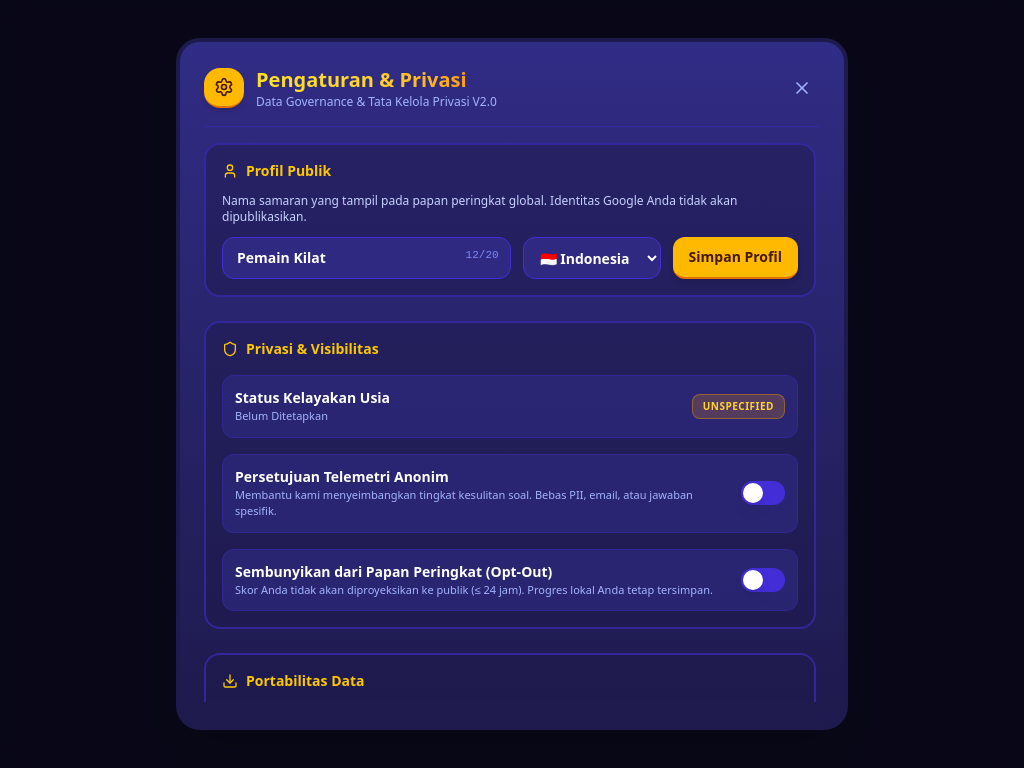
SettingsModal component › displays error message when pseudonym validation fails
Replace the text in the field with placeholder "Ketik nama samaran..." with "bad": (366,258) 222,237 -> 511,279
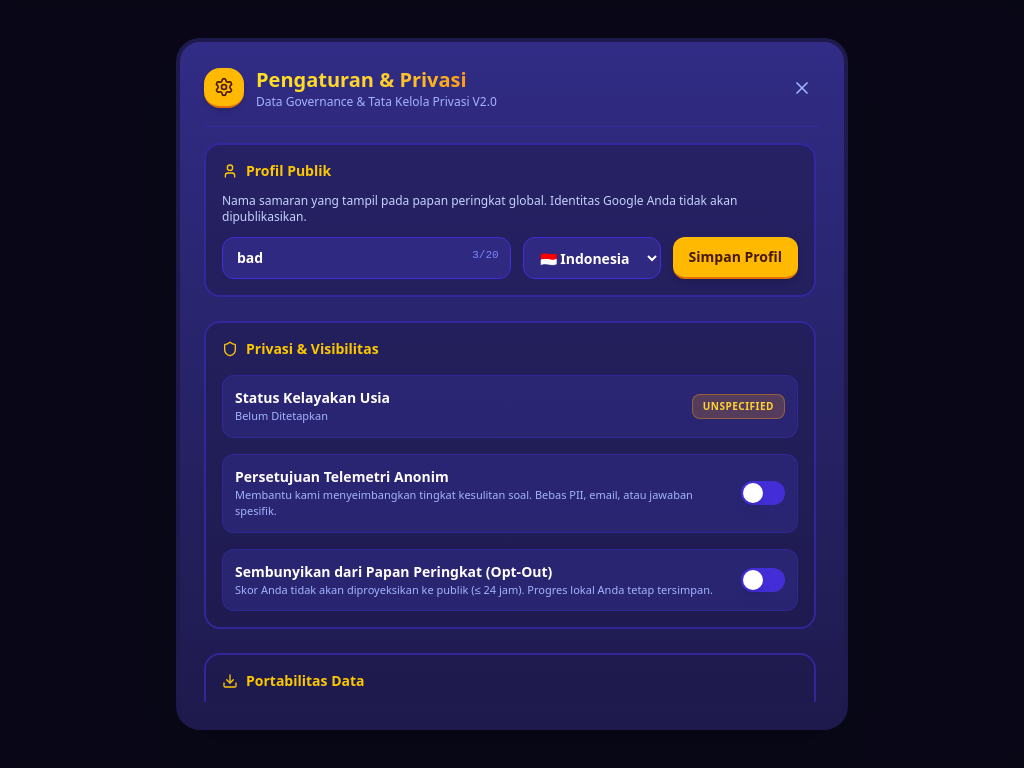
Click the button "Simpan Profil": (735,258) 673,237 -> 798,279
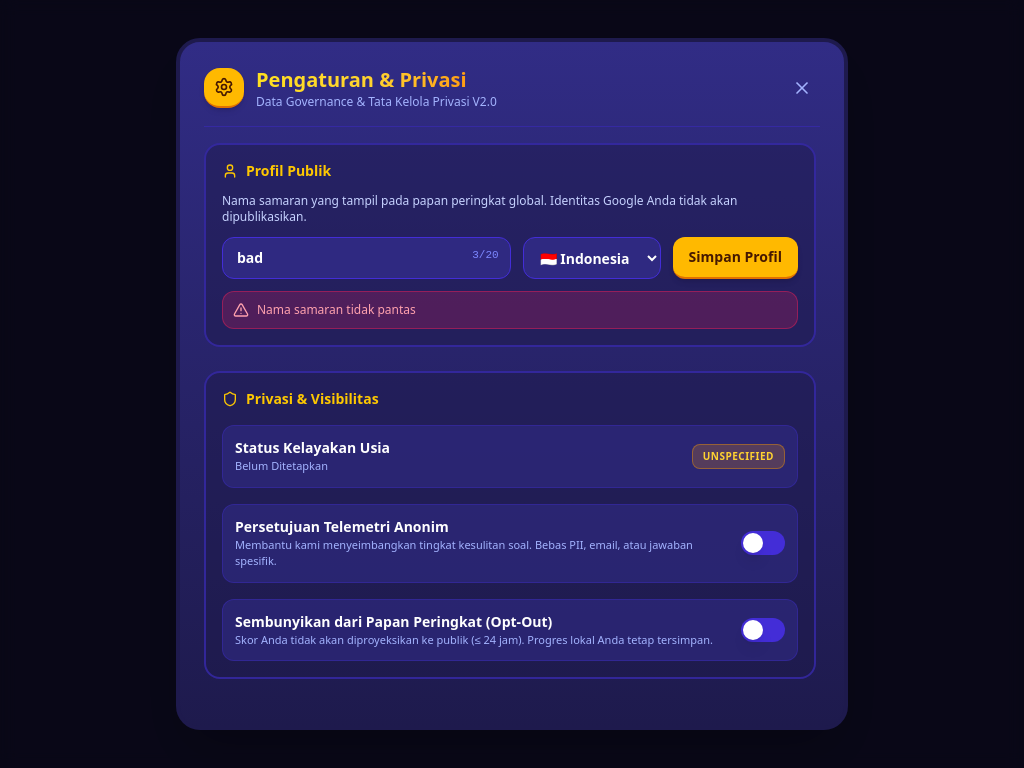
Expected: the text "Nama samaran tidak pantas" is shown, 257,302 -> 416,318
